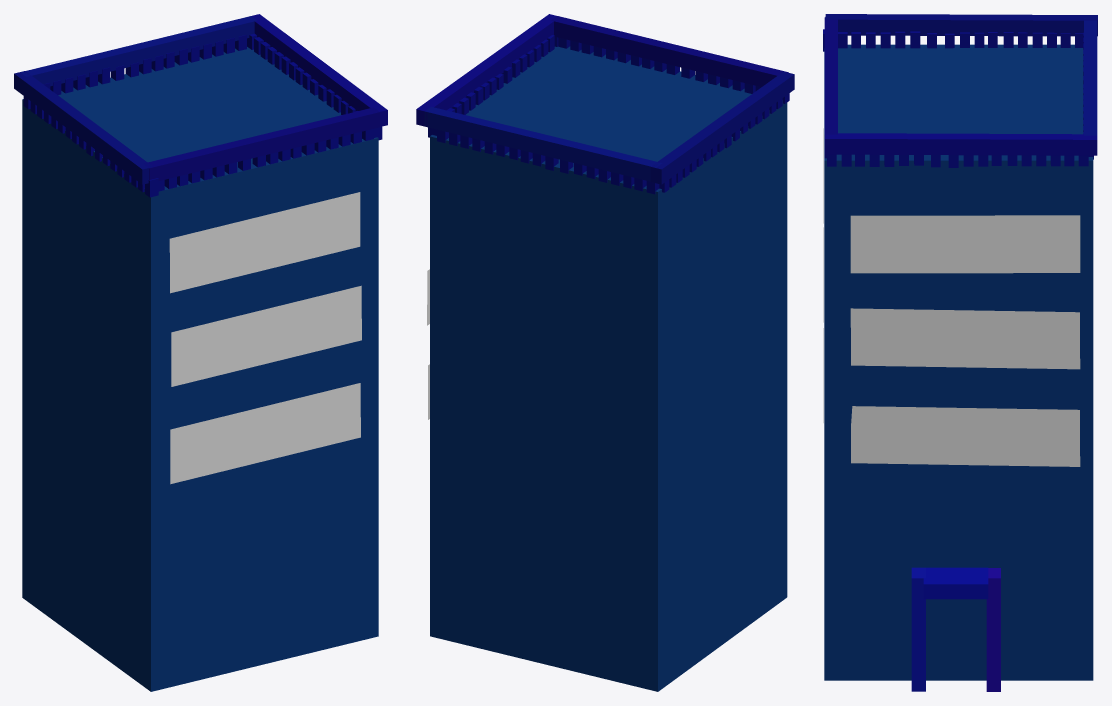
The model's file is дом 1.fbx.
3 renders of one model, left to right at view 1: azimuth 30°, elevation 25°; view 2: azimuth 150°, elevation 25°; view 3: azimuth 270°, elevation 25°, orthographic. The views are drawn at different scales.
Parts seen in each view (by area): view 1: Cube, Plane, Plane.002, Plane.001, Cube.004, Cube.005, Cube.007, Cube.006; view 2: Cube, Cube.005, Cube.004, Cube.007, Cube.006; view 3: Cube, Plane.003, Plane.004, Plane.005, Cube.006, Cube.007, Cube.003, Cube.001, Cube.002, Cube.004, Cube.005.
Boxes of the visible parts, <box> form: Cube: <box>22,47,378,691</box>; Plane: <box>169,192,360,293</box>; Plane.002: <box>170,383,360,484</box>; Plane.001: <box>171,285,361,386</box>; Cube.004: <box>143,107,379,180</box>; Cube.005: <box>20,16,256,86</box>; Cube.007: <box>14,71,152,184</box>; Cube.006: <box>251,14,387,126</box>; Cube: <box>430,46,787,691</box>; Cube.005: <box>424,106,662,181</box>; Cube.004: <box>551,16,788,86</box>; Cube.007: <box>650,71,794,184</box>; Cube.006: <box>416,14,556,126</box>; Cube: <box>824,44,1093,680</box>; Plane.003: <box>850,215,1080,273</box>; Plane.004: <box>850,308,1080,369</box>; Plane.005: <box>851,406,1080,466</box>; Cube.006: <box>824,133,1097,155</box>; Cube.007: <box>825,14,1097,36</box>; Cube.003: <box>923,567,988,599</box>; Cube.001: <box>911,567,925,691</box>; Cube.002: <box>986,568,1000,691</box>; Cube.004: <box>824,17,837,138</box>; Cube.005: <box>1084,18,1097,135</box>.
Bounding box in the file's own units: 999 × 1868 × 850.
